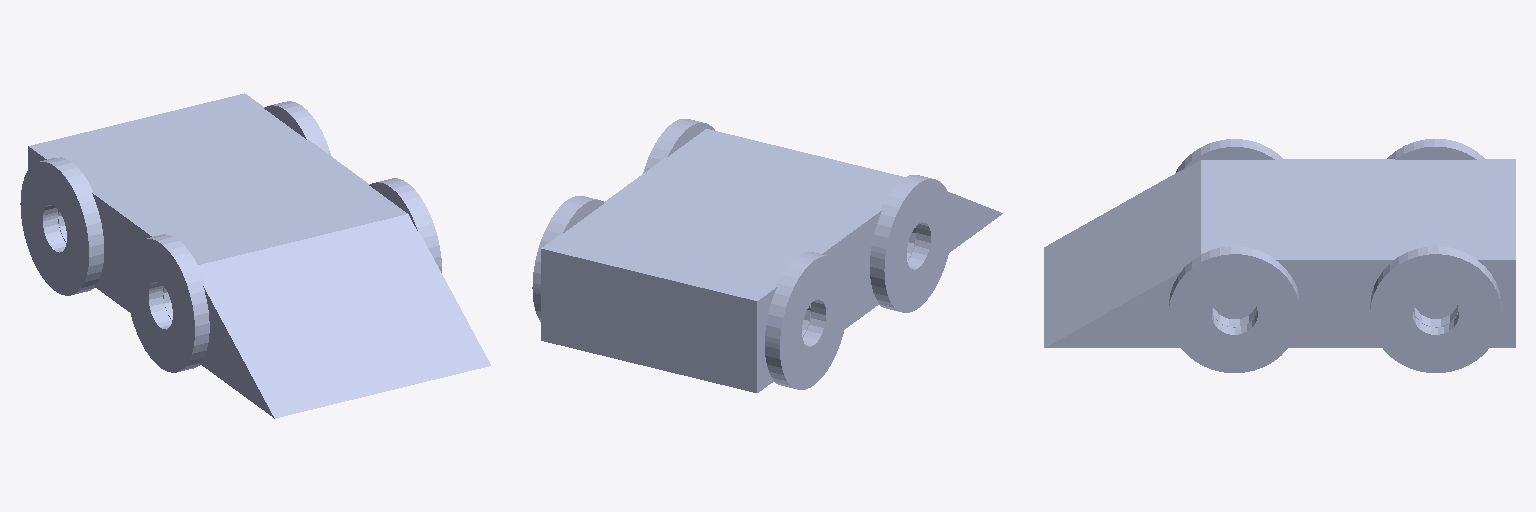
robot.urdf — assem4.SLDASM:
<?xml version="1.0" encoding="utf-8"?>
<!-- This URDF was automatically created by SolidWorks to URDF Exporter! Originally created by [author] ([email redacted]) 
     Commit Version: 1.6.0-1-g15f4949  Build Version: 1.6.7594.29634
     For more information, please see http://wiki.ros.org/sw_urdf_exporter -->
<robot
  name="assem4.SLDASM">
  <link
    name="base_link">
    <inertial>
      <origin
        xyz="0.0882012329530626 -0.155190346120254 0.0673068296307817"
        rpy="0 0 0" />
      <mass
        value="0.690191118823633" />
      <inertia
        ixx="0.00182938745488933"
        ixy="5.95499076853132E-08"
        ixz="3.47473657537897E-09"
        iyy="0.000678749982914949"
        iyz="-7.90135375495565E-05"
        izz="0.00231218793666964" />
    </inertial>
    <visual>
      <origin
        xyz="0 0 0"
        rpy="0 0 0" />
      <geometry>
        <mesh
          filename="package://assem4.SLDASM/meshes/base_link.STL" />
      </geometry>
      <material
        name="">
        <color
          rgba="0.792156862745098 0.819607843137255 0.933333333333333 1" />
      </material>
    </visual>
    <collision>
      <origin
        xyz="0 0 0"
        rpy="0 0 0" />
      <geometry>
        <mesh
          filename="package://assem4.SLDASM/meshes/base_link.STL" />
      </geometry>
    </collision>
  </link>
  <link
    name="frontLeftLink">
    <inertial>
      <origin
        xyz="0.012273 -1.3878E-17 2.7756E-17"
        rpy="0 0 0" />
      <mass
        value="0.017128" />
      <inertia
        ixx="7.5345E-06"
        ixy="8.8233E-25"
        ixz="1.0588E-23"
        iyy="3.8586E-06"
        iyz="-2.3413E-23"
        izz="3.8586E-06" />
    </inertial>
    <visual>
      <origin
        xyz="0 0 0"
        rpy="0 0 0" />
      <geometry>
        <mesh
          filename="package://assem4.SLDASM/meshes/frontLeftLink.STL" />
      </geometry>
      <material
        name="">
        <color
          rgba="0.79216 0.81961 0.93333 1" />
      </material>
    </visual>
    <collision>
      <origin
        xyz="0 0 0"
        rpy="0 0 0" />
      <geometry>
        <mesh
          filename="package://assem4.SLDASM/meshes/frontLeftLink.STL" />
      </geometry>
    </collision>
  </link>
  <joint
    name="frontLeftWheel"
    type="continuous">
    <origin
      xyz="0.1301 -0.18988 0.067659"
      rpy="1.5708 0 0" />
    <parent
      link="base_link" />
    <child
      link="frontLeftLink" />
    <axis
      xyz="1 0 0" />
  </joint>
  <link
    name="frontRightLink">
    <inertial>
      <origin
        xyz="0.0044257 0 2.7756E-17"
        rpy="0 0 0" />
      <mass
        value="0.017128" />
      <inertia
        ixx="7.5345E-06"
        ixy="6.1763E-24"
        ixz="3.5293E-24"
        iyy="3.8586E-06"
        iyz="-6.8821E-23"
        izz="3.8586E-06" />
    </inertial>
    <visual>
      <origin
        xyz="0 0 0"
        rpy="0 0 0" />
      <geometry>
        <mesh
          filename="package://assem4.SLDASM/meshes/frontRightLink.STL" />
      </geometry>
      <material
        name="">
        <color
          rgba="0.79216 0.81961 0.93333 1" />
      </material>
    </visual>
    <collision>
      <origin
        xyz="0 0 0"
        rpy="0 0 0" />
      <geometry>
        <mesh
          filename="package://assem4.SLDASM/meshes/frontRightLink.STL" />
      </geometry>
    </collision>
  </link>
  <joint
    name="frontRightWheel"
    type="continuous">
    <origin
      xyz="0.030132 -0.18988 0.067659"
      rpy="1.5708 0 0" />
    <parent
      link="base_link" />
    <child
      link="frontRightLink" />
    <axis
      xyz="1 0 0" />
  </joint>
  <link
    name="backLeftLink">
    <inertial>
      <origin
        xyz="0.01359 1.3878E-17 0"
        rpy="0 0 0" />
      <mass
        value="0.017128" />
      <inertia
        ixx="7.5345E-06"
        ixy="-4.7754E-39"
        ixz="-1.0395E-38"
        iyy="3.8586E-06"
        iyz="9.4311E-40"
        izz="3.8586E-06" />
    </inertial>
    <visual>
      <origin
        xyz="0 0 0"
        rpy="0 0 0" />
      <geometry>
        <mesh
          filename="package://assem4.SLDASM/meshes/backLeftLink.STL" />
      </geometry>
      <material
        name="">
        <color
          rgba="0.79216 0.81961 0.93333 1" />
      </material>
    </visual>
    <collision>
      <origin
        xyz="0 0 0"
        rpy="0 0 0" />
      <geometry>
        <mesh
          filename="package://assem4.SLDASM/meshes/backLeftLink.STL" />
      </geometry>
    </collision>
  </link>
  <joint
    name="backLeftWheel"
    type="continuous">
    <origin
      xyz="0.12876 -0.10439 0.067659"
      rpy="1.5708 0 0" />
    <parent
      link="base_link" />
    <child
      link="backLeftLink" />
    <axis
      xyz="1 0 0" />
  </joint>
  <link
    name="backRightLink">
    <inertial>
      <origin
        xyz="0.004 -1.8041E-16 1.9429E-16"
        rpy="0 0 0" />
      <mass
        value="0.017128" />
      <inertia
        ixx="7.5345E-06"
        ixy="8.8233E-25"
        ixz="-1.4117E-23"
        iyy="3.8586E-06"
        iyz="-5.7674E-23"
        izz="3.8586E-06" />
    </inertial>
    <visual>
      <origin
        xyz="0 0 0"
        rpy="0 0 0" />
      <geometry>
        <mesh
          filename="package://assem4.SLDASM/meshes/backRightLink.STL" />
      </geometry>
      <material
        name="">
        <color
          rgba="0.79216 0.81961 0.93333 1" />
      </material>
    </visual>
    <collision>
      <origin
        xyz="0 0 0"
        rpy="0 0 0" />
      <geometry>
        <mesh
          filename="package://assem4.SLDASM/meshes/backRightLink.STL" />
      </geometry>
    </collision>
  </link>
  <joint
    name="backRightWheel"
    type="continuous">
    <origin
      xyz="0.030319 -0.10439 0.067659"
      rpy="1.5708 0 0" />
    <parent
      link="base_link" />
    <child
      link="backRightLink" />
    <axis
      xyz="1 0 0" />
  </joint>
</robot>

--- Render facts (derived) ---
Views: 3 orthographic renders of the robot side by side, from view 1: azimuth 30°, elevation 25°; view 2: azimuth 150°, elevation 25°; view 3: azimuth 270°, elevation 25°.
Model assem4.SLDASM with 5 links and 4 joints (4 continuous), rooted at base_link, posed every joint at zero.
Links seen in each view (by area): view 1: base_link, backRightLink, frontRightLink, frontLeftLink, backLeftLink; view 2: base_link, backRightLink, frontRightLink, backLeftLink, frontLeftLink; view 3: base_link, frontLeftLink, backLeftLink, frontRightLink, backRightLink.
Link boxes in pixels (box(x1,y1,x2,y2)): base_link: box(28, 93, 490, 418); backRightLink: box(20, 157, 103, 295); frontRightLink: box(126, 234, 209, 372); frontLeftLink: box(369, 178, 441, 272); backLeftLink: box(264, 101, 330, 155); base_link: box(541, 129, 1002, 392); backRightLink: box(765, 252, 847, 389); frontRightLink: box(870, 175, 952, 312); backLeftLink: box(532, 196, 604, 321); frontLeftLink: box(643, 119, 714, 172); base_link: box(1044, 159, 1515, 347); frontLeftLink: box(1169, 246, 1299, 372); backLeftLink: box(1370, 246, 1501, 372); frontRightLink: box(1176, 139, 1282, 172); backRightLink: box(1387, 139, 1484, 159).
Bounding box of the posed robot: 0.1161 × 0.2 × 0.0559 m (x, y, z).
5 mesh visuals loaded from 5 distinct referenced files (5 binary STL).